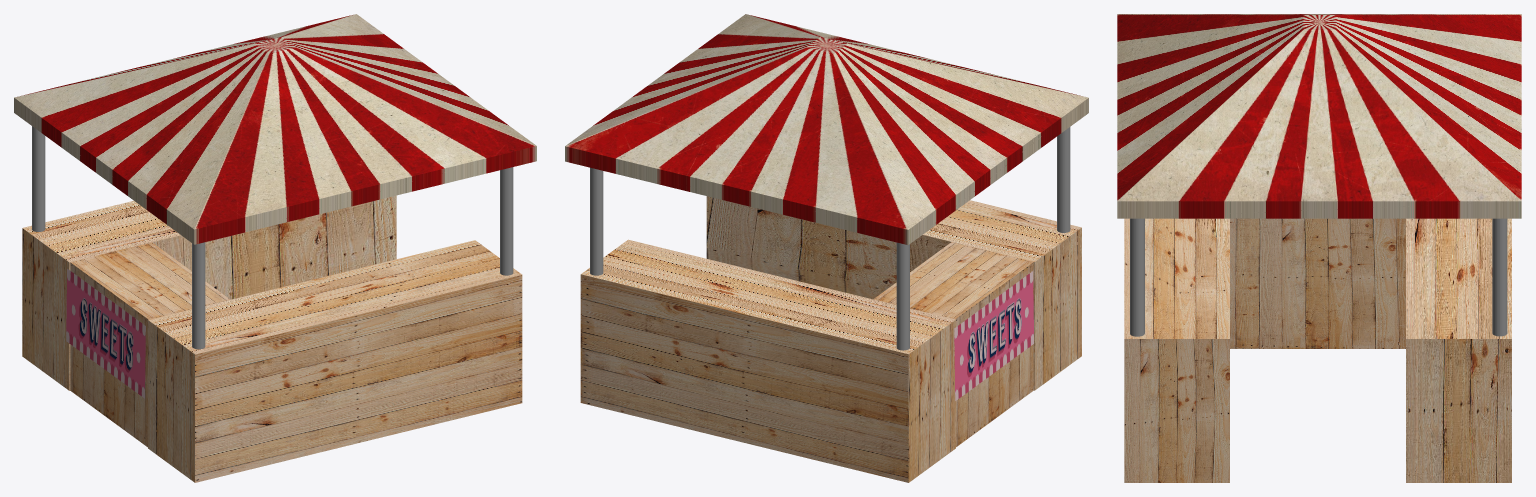
File: MarketStand (1).glb
3 renders of one model, left to right at view 1: azimuth 30°, elevation 25°; view 2: azimuth 150°, elevation 25°; view 3: azimuth 270°, elevation 25°, orthographic. The views are drawn at different scales.
Parts seen in each view (by area): view 1: Tent, Standp1, Standp3, Standp2, Plane, supportp4, supportp2, supportp3; view 2: Tent, Standp3, Standp1, Standp2, Plane, supportp3, supportp1, supportp2; view 3: Tent, Standp3, Standp1, Standp2, supportp1, supportp4.
Part boxes in pixels (x1,y1,x2,y2): Tent: (14, 14, 536, 244); Standp1: (148, 240, 522, 482); Standp3: (22, 195, 396, 390); Standp2: (70, 242, 230, 447); Plane: (66, 269, 145, 398); supportp4: (500, 167, 513, 275); supportp2: (192, 242, 205, 349); supportp3: (32, 126, 45, 231); Tent: (565, 14, 1088, 244); Standp3: (580, 239, 955, 482); Standp1: (706, 196, 1081, 390); Standp2: (873, 242, 1033, 446); Plane: (954, 271, 1033, 400); supportp3: (896, 242, 909, 350); supportp1: (590, 167, 603, 275); supportp2: (1057, 127, 1070, 232); Tent: (1117, 14, 1521, 218); Standp3: (1406, 218, 1511, 482); Standp1: (1124, 218, 1229, 482); Standp2: (1230, 218, 1405, 348); supportp1: (1492, 218, 1507, 336); supportp4: (1130, 218, 1144, 336).
Bounding box in the file's own units: 5.02 × 4.66 × 4.58.
Materials: 7 (5 with a texture image).
